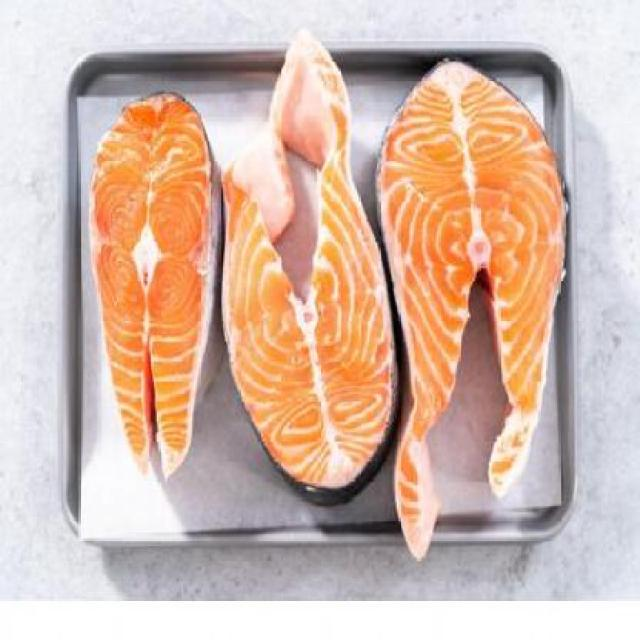salmon: (375, 46, 563, 566), (217, 25, 401, 502), (86, 86, 222, 470)
